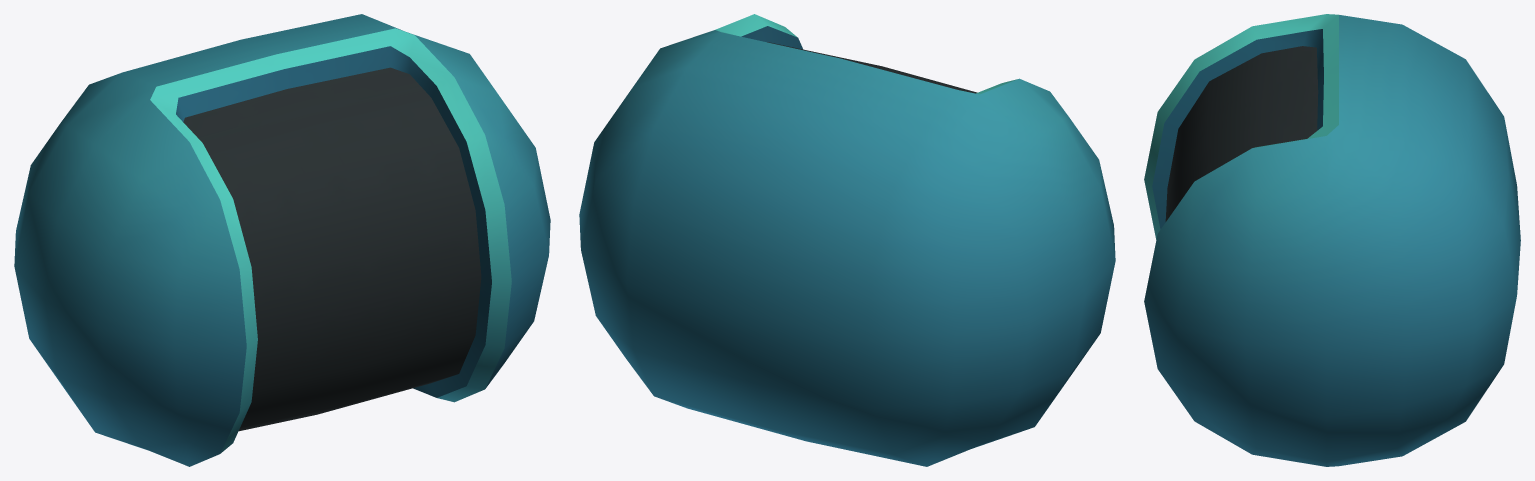
The model's file is matt-gun-head.glb.
3 renders of one model, left to right at view 1: azimuth 30°, elevation 25°; view 2: azimuth 150°, elevation 25°; view 3: azimuth 270°, elevation 25°, orthographic. The views are drawn at different scales.
Parts seen in each view (by area): view 1: turret_gun_head; view 2: turret_gun_head; view 3: turret_gun_head.
Boxes of the visible parts, x1,y1,x2,y2 form: turret_gun_head: (14,14,550,466); turret_gun_head: (579,14,1115,466); turret_gun_head: (1144,14,1520,466).
Bounding box in the file's own units: 1.54 × 1.14 × 1.12.
Materials: 1 (1 with a texture image).
